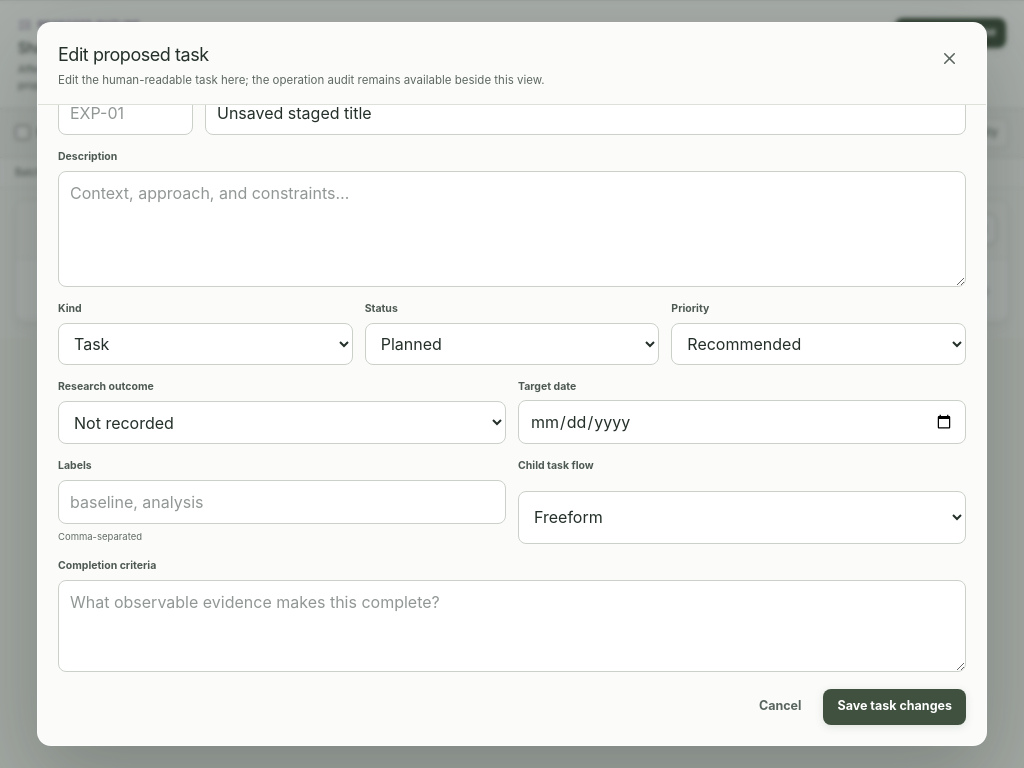
Test case: proposed task editor close safety › guards Cancel, Escape, close, and backdrop dismissal when the staged task form is dirty
Earlier steps of the test are not shown.
(page scrolled)
Click the button "Cancel".
click(780, 706)  # box [745, 688, 816, 724]
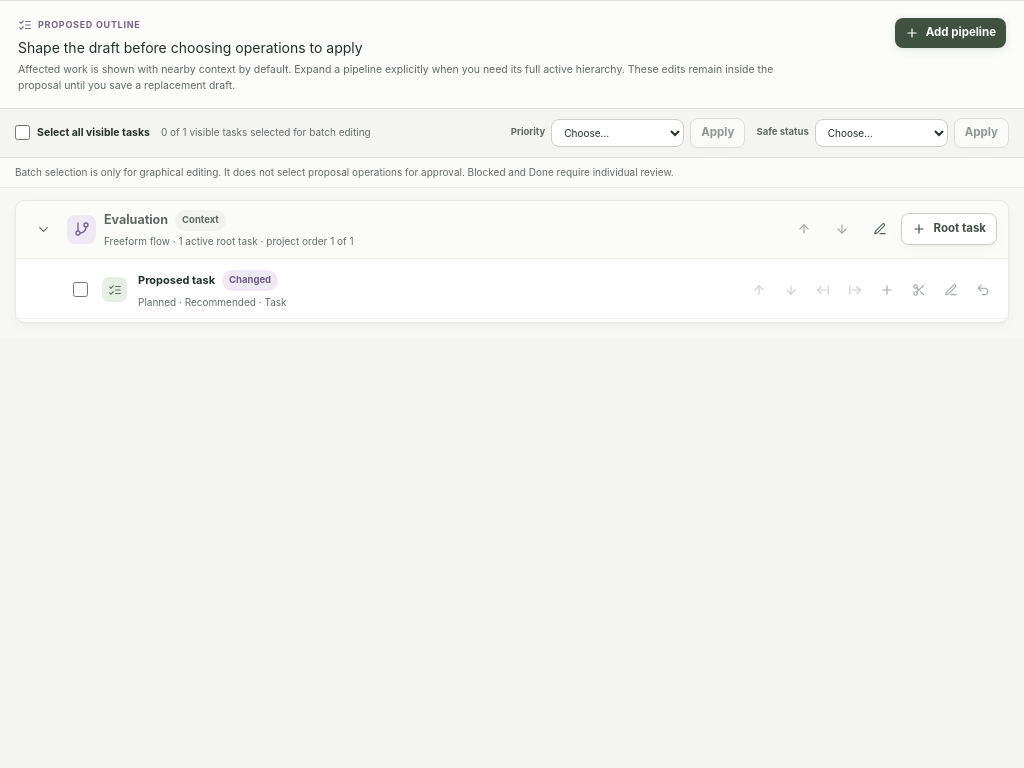
Expected: the heading "Edit proposed task" is gone
